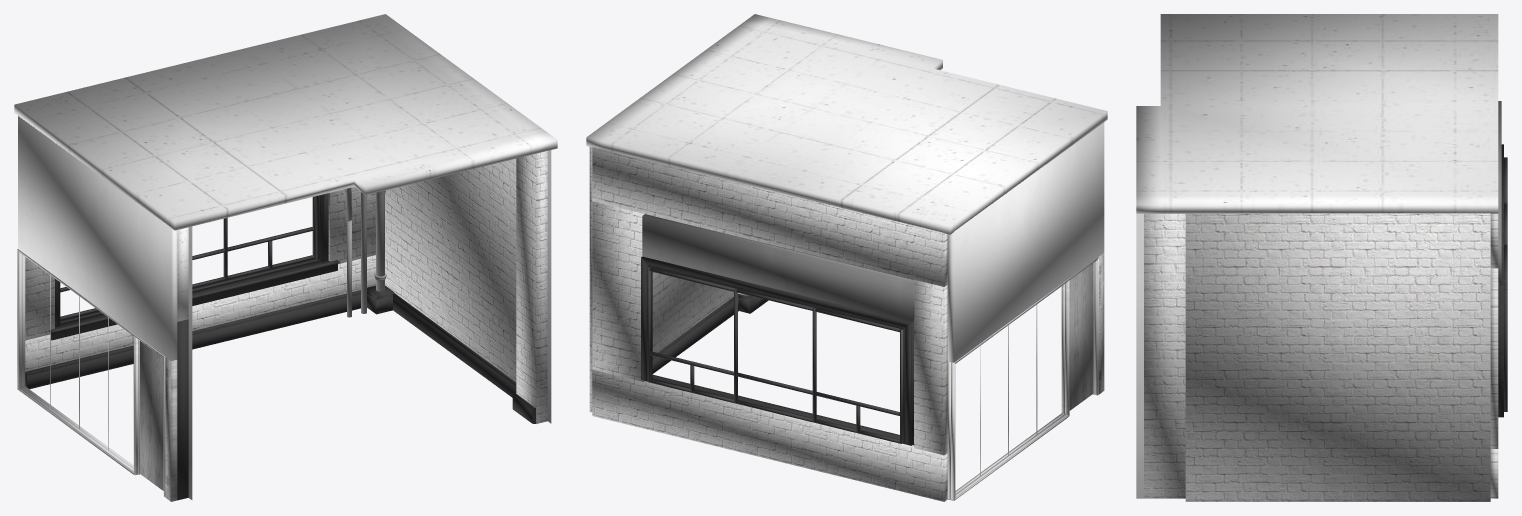
Rendered from RoomStructure.obj.
3 views of the same model, side by side, from view 1: azimuth 30°, elevation 25°; view 2: azimuth 150°, elevation 25°; view 3: azimuth 270°, elevation 25° (orthographic). The views are drawn at different scales.
Size of the model in its own units: 688 by 500 by 565.
Materials: 1 (1 with a texture image).
